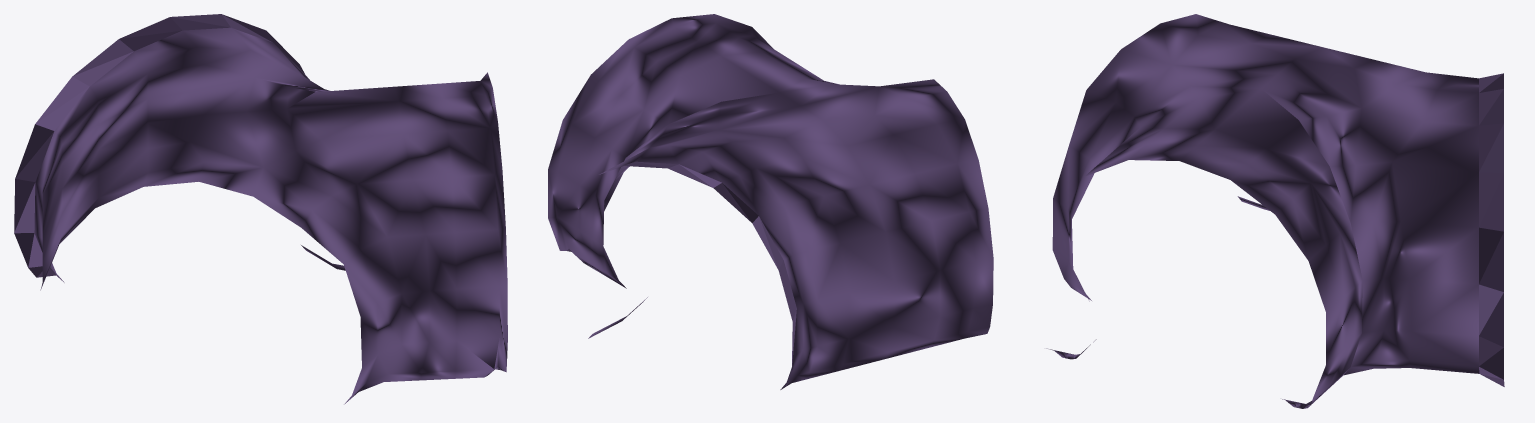
The model's file is tunnel_corner_b_02.glb.
The picture shows the model from 3 angles, left to right: view 1: azimuth 30°, elevation 25°; view 2: azimuth 150°, elevation 25°; view 3: azimuth 270°, elevation 25°; orthographic projection. The views are drawn at different scales.
Bounding box in the file's own units: 13.39 × 6.73 × 12.29.
